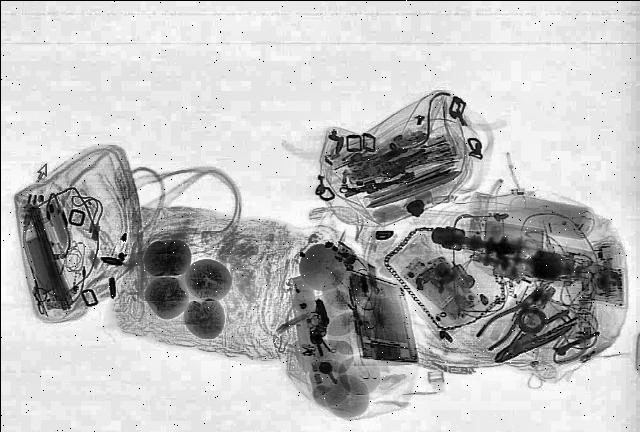Pliers: (467, 281, 558, 351), (482, 306, 588, 366)
